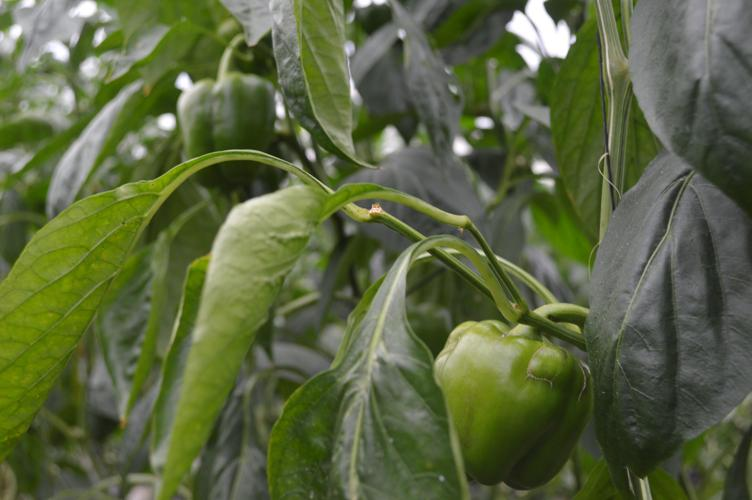BellPepper: (432, 322, 591, 495), (173, 76, 277, 185)
